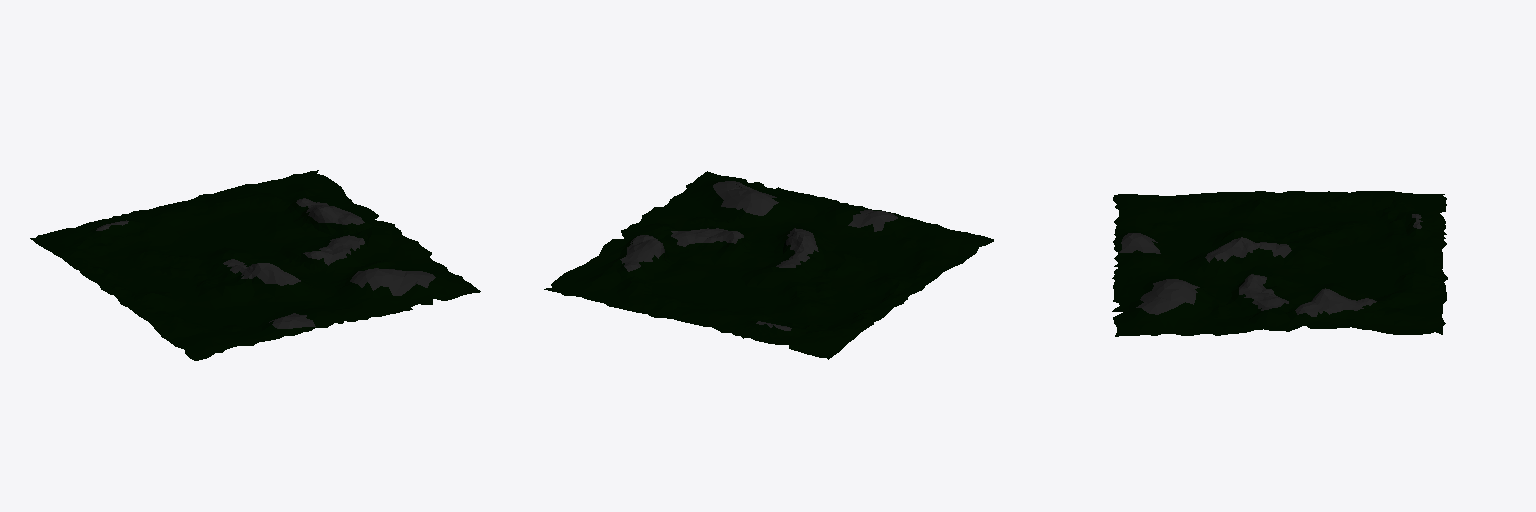
Rendered from terrain.obj.
The picture shows the model from 3 angles: view 1: azimuth 30°, elevation 25°; view 2: azimuth 150°, elevation 25°; view 3: azimuth 270°, elevation 25°; orthographic projection.
Visible parts, largest first — view 1: Plane; view 2: Plane; view 3: Plane.
Boxes of the visible parts, <box> form: Plane: <box>30,170,480,360</box>; Plane: <box>544,171,993,359</box>; Plane: <box>1112,191,1447,336</box>.
Bounding box in the file's own units: 400 × 28.29 × 400.